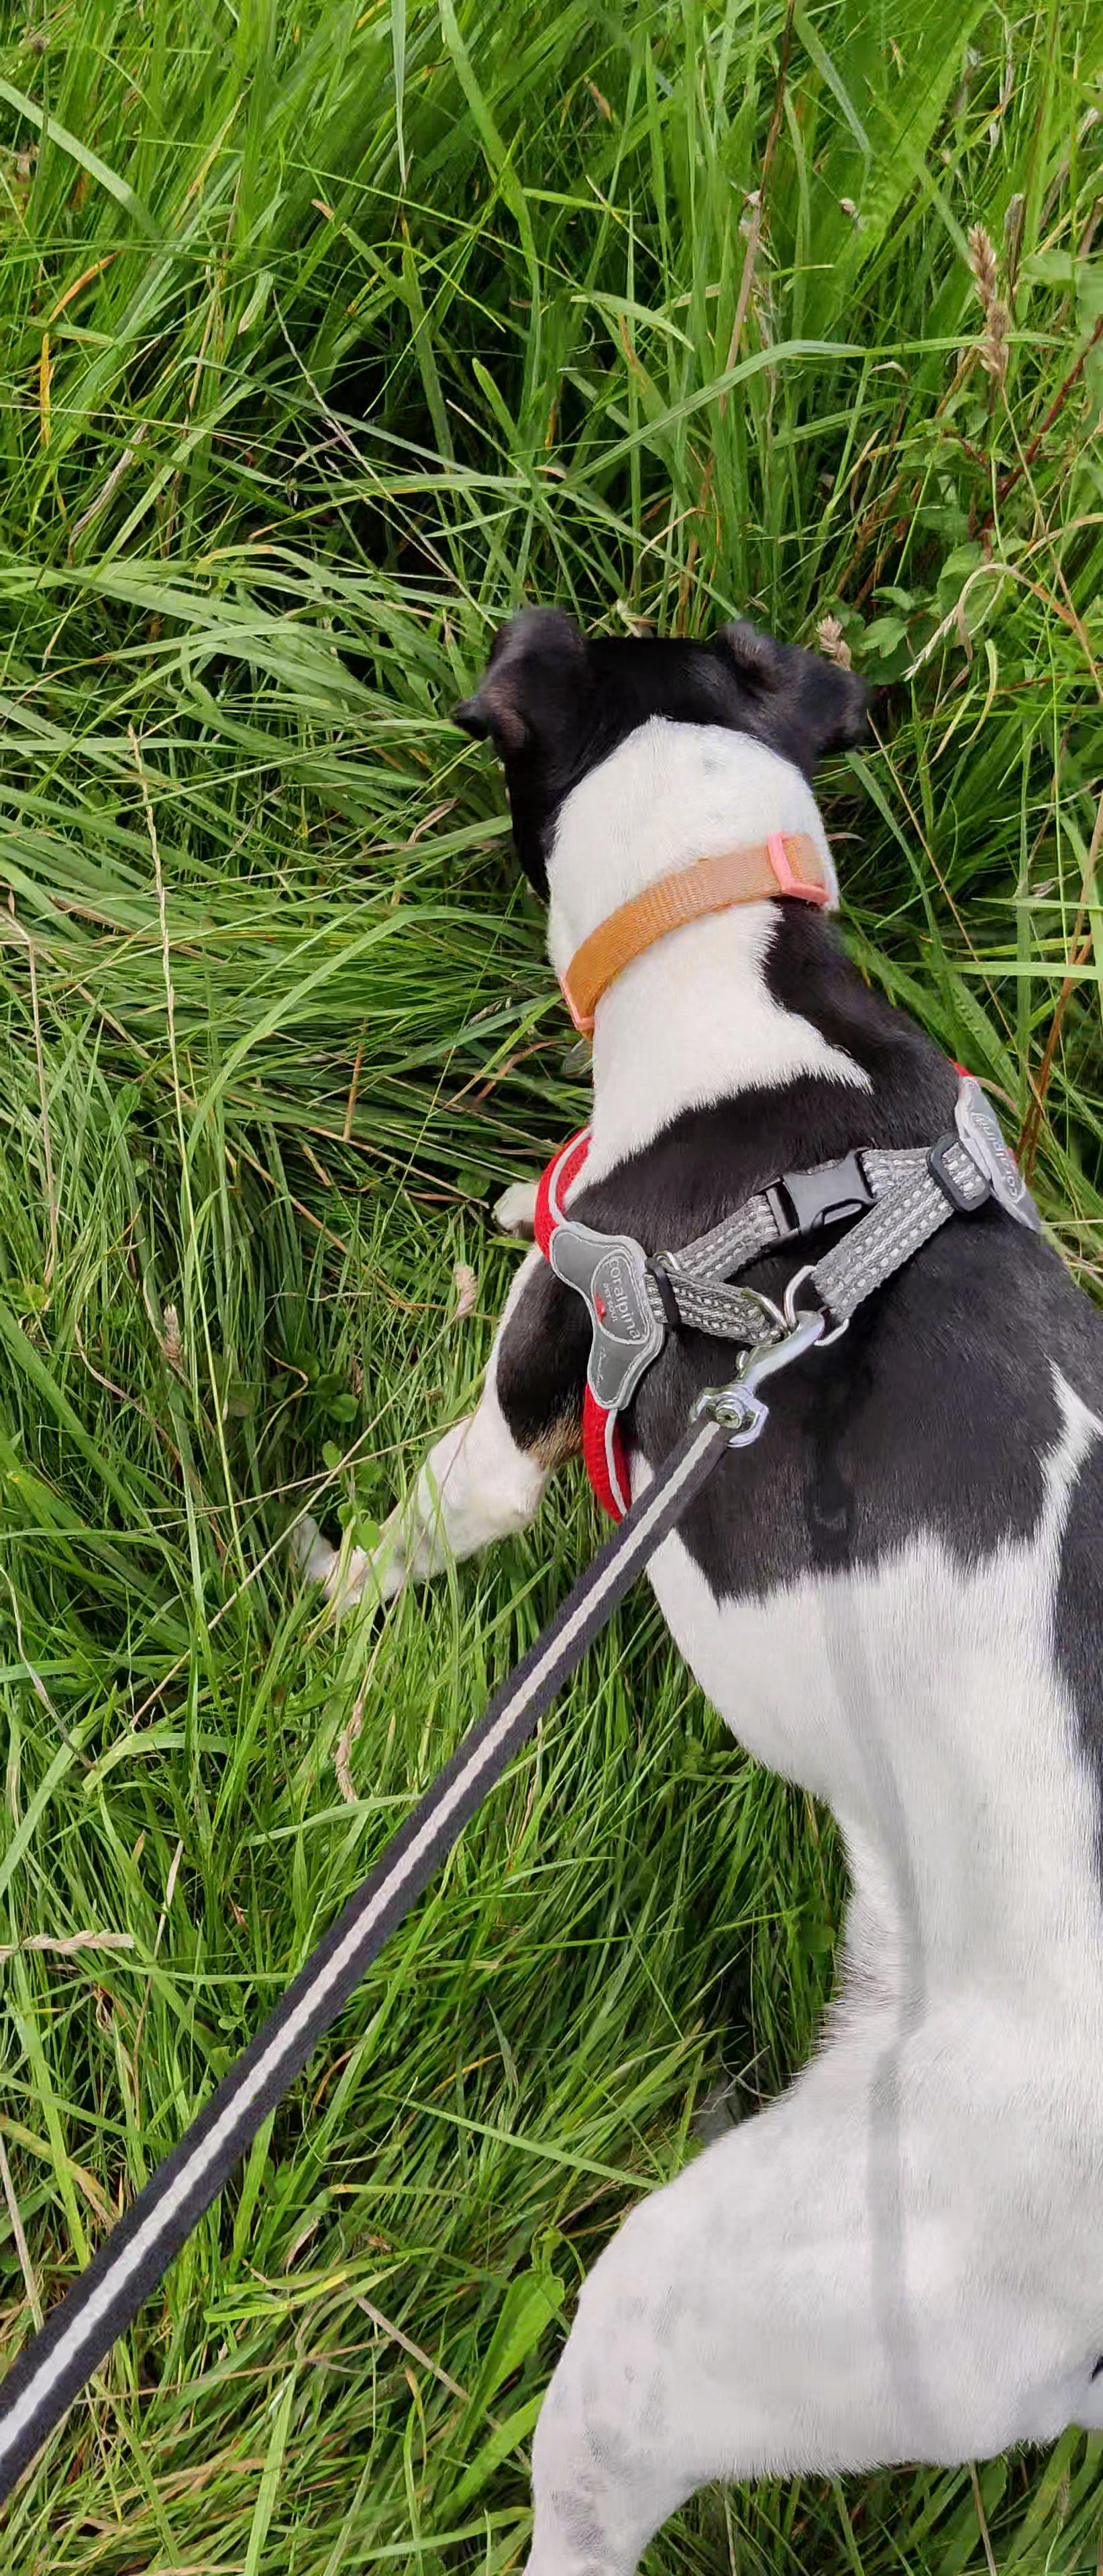Dog: (279, 578, 1103, 2576)
